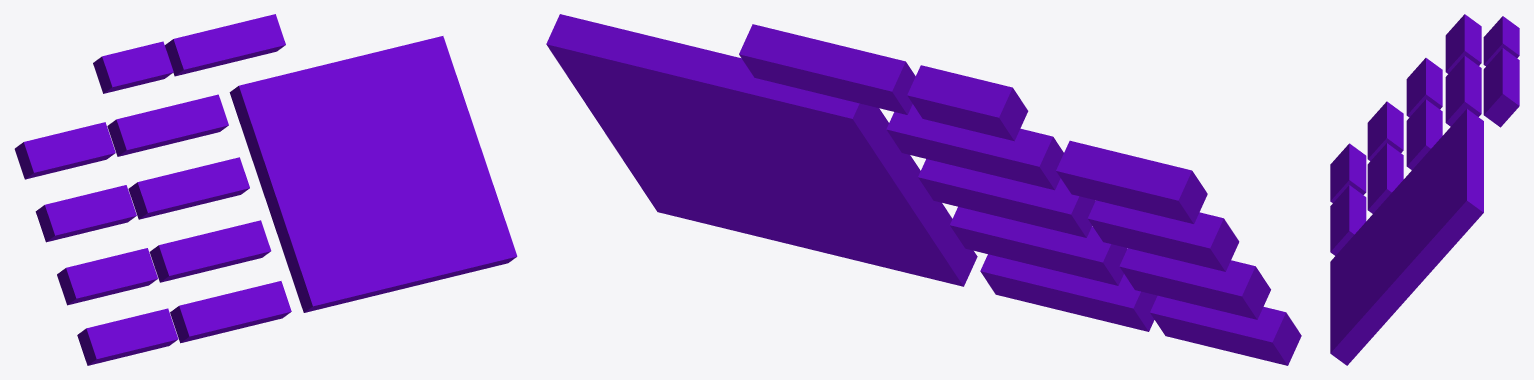
Rendered from hand2(1).fbx.
3 views of the same model, side by side, from view 1: azimuth 30°, elevation 25°; view 2: azimuth 150°, elevation 25°; view 3: azimuth 270°, elevation 25° (orthographic). The views are drawn at different scales.
Parts seen in each view (by area): view 1: Cube, Cube.001, Cube.004, Cube.002, Cube.003, Cube.009, Cube.005, Cube.007, Cube.008, Cube.006, Cube.010; view 2: Cube, Cube.009, Cube.007, Cube.002, Cube.003, Cube.001, Cube.004, Cube.006, Cube.008, Cube.005, Cube.010; view 3: Cube, Cube.009, Cube.002, Cube.001, Cube.003, Cube.004, Cube.007, Cube.005, Cube.008, Cube.006, Cube.010.
Part boxes in pixels (x1,y1,x2,y2): Cube: (229,36,517,312); Cube.001: (128,157,249,219); Cube.004: (170,281,291,343); Cube.002: (107,94,228,156); Cube.003: (149,220,271,282); Cube.009: (165,14,285,76); Cube.005: (77,308,178,365); Cube.007: (14,122,115,179); Cube.008: (35,185,136,242); Cube.006: (57,248,157,305); Cube.010: (93,41,173,93); Cube: (546,14,977,286); Cube.009: (739,24,915,114); Cube.007: (1056,140,1207,223); Cube.002: (886,104,1063,190); Cube.003: (950,206,1127,285); Cube.001: (918,159,1095,237); Cube.004: (980,254,1157,331); Cube.006: (1119,248,1270,319); Cube.008: (1087,200,1239,271); Cube.005: (1150,295,1301,365); Cube.010: (907,65,1028,141); Cube: (1330,109,1483,365); Cube.009: (1483,48,1519,127); Cube.002: (1445,56,1481,126); Cube.001: (1406,99,1442,169); Cube.003: (1367,143,1403,213); Cube.004: (1330,185,1366,255); Cube.007: (1445,14,1481,73); Cube.005: (1330,143,1366,202); Cube.008: (1406,58,1442,117); Cube.006: (1367,101,1403,161); Cube.010: (1483,16,1519,66).
Bounding box in the file's own units: 206 × 104 × 87.19.
